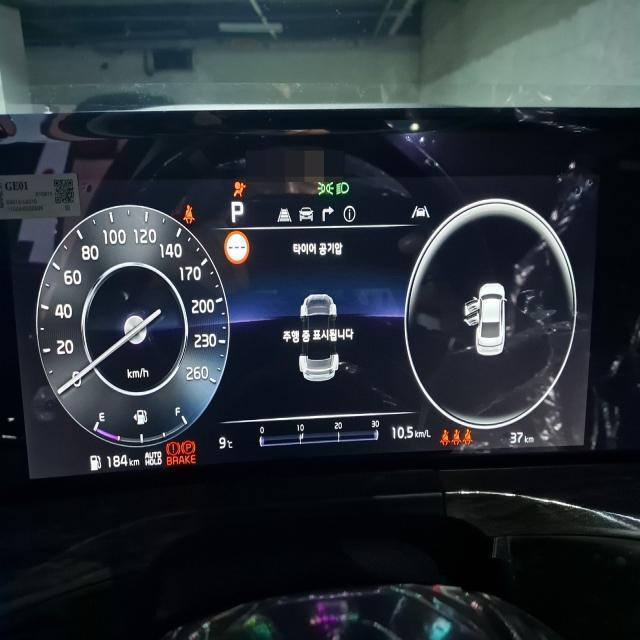LaneCenteringOff: (411, 203, 429, 218)
Low beam: (336, 180, 348, 196)
SideLamp: (316, 180, 334, 196)
